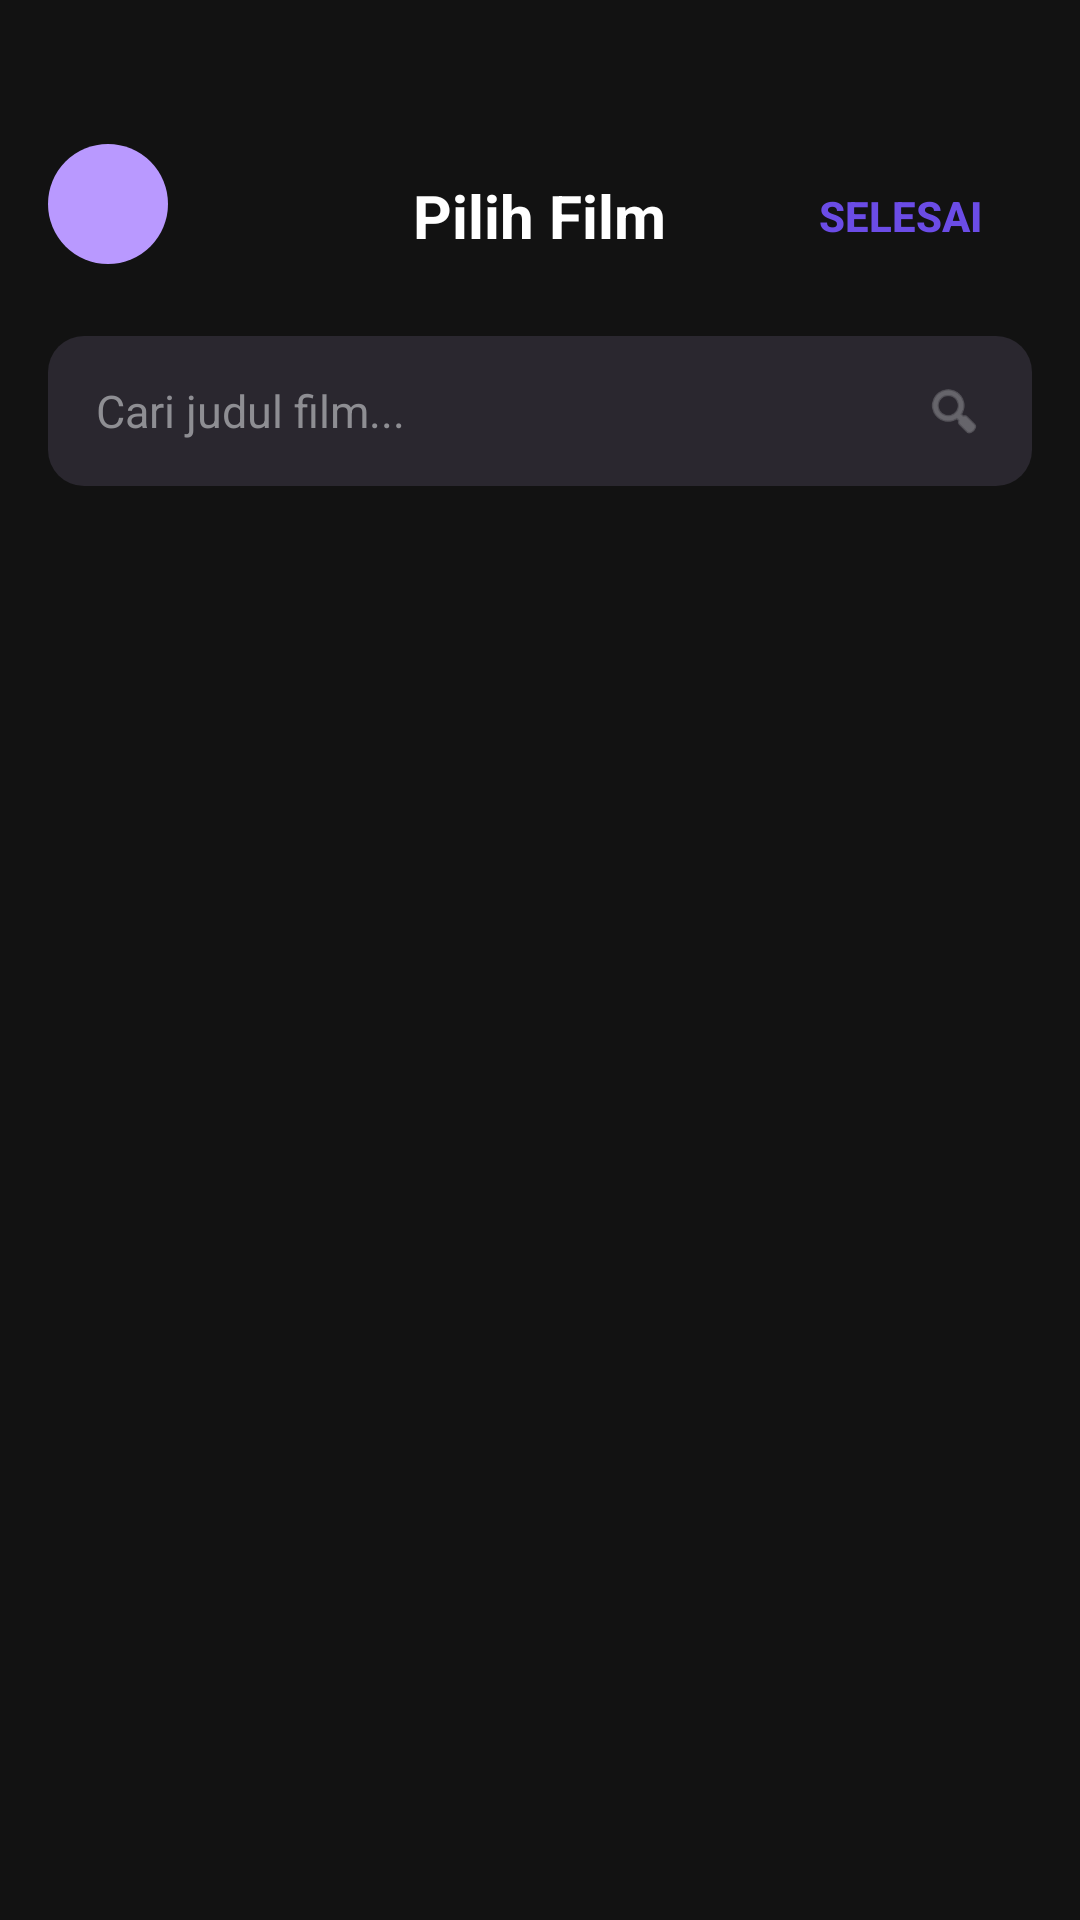

Icons on this 1080x1920 Android screen, each with its box as (x1, y1, x2, y2):
search: (932, 389, 976, 433)
